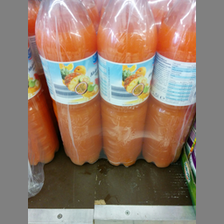juice: (34, 1, 101, 165), (97, 1, 158, 168), (144, 1, 196, 167)
